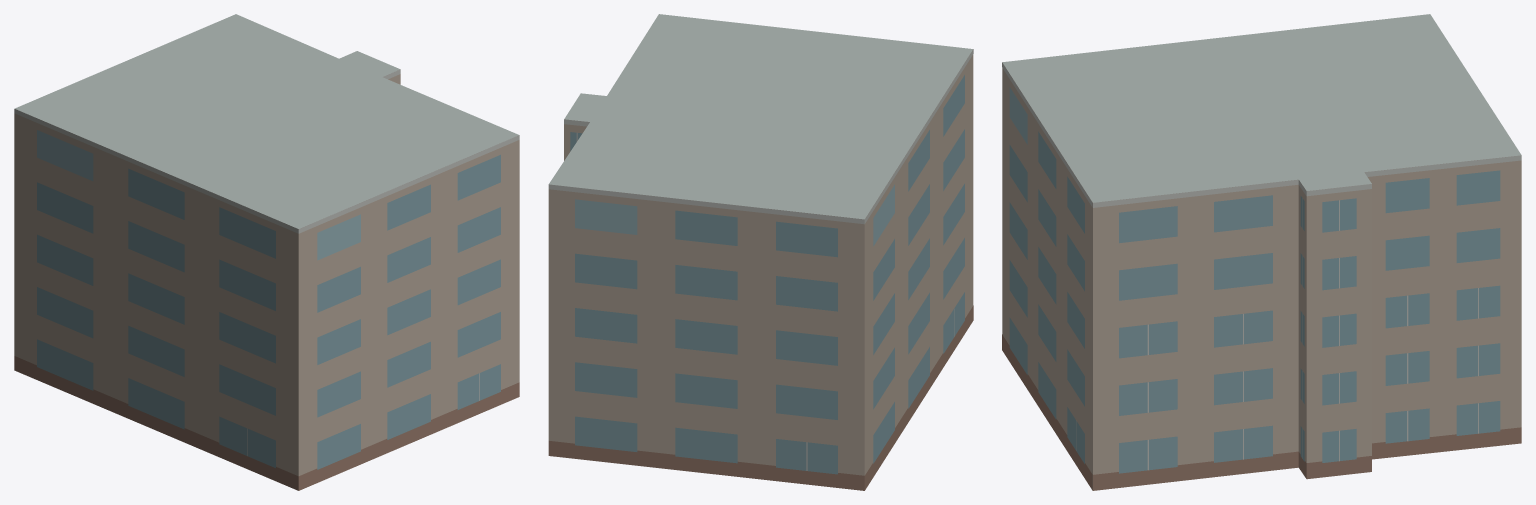
The model's file is survey-upis-32644142.glb.
The picture shows the model from 3 angles, left to right: view 1: azimuth 30°, elevation 25°; view 2: azimuth 150°, elevation 25°; view 3: azimuth 270°, elevation 25°; orthographic projection. The views are drawn at different scales.
Visible parts, largest first — view 1: survey-upis-32644142.tmp; view 2: survey-upis-32644142.tmp; view 3: survey-upis-32644142.tmp.
Part boxes in pixels (<box>): survey-upis-32644142.tmp: <box>14,14,519,490</box>; survey-upis-32644142.tmp: <box>548,14,973,490</box>; survey-upis-32644142.tmp: <box>1002,14,1521,490</box>.
Size of the model in its own units: 19.28 by 13.7 by 22.41.
